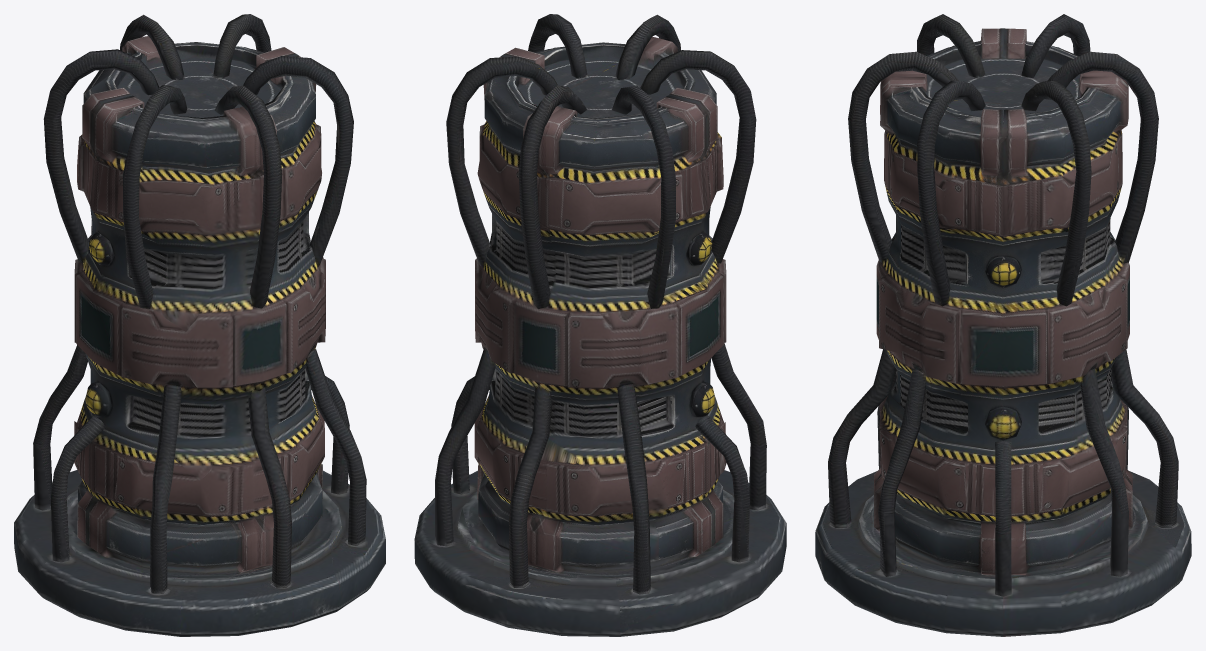
The model's file is core.glb.
3 renders of one model, left to right at view 1: azimuth 30°, elevation 25°; view 2: azimuth 150°, elevation 25°; view 3: azimuth 270°, elevation 25°, orthographic.
Visible parts, largest first — view 1: core; view 2: core; view 3: core.
Part boxes in pixels (<box>): core: <box>14,14,385,636</box>; core: <box>414,14,786,636</box>; core: <box>815,14,1191,636</box>.
Size of the model in its own units: 9.31 by 14 by 9.4.
Materials: 1 (1 with a texture image).
